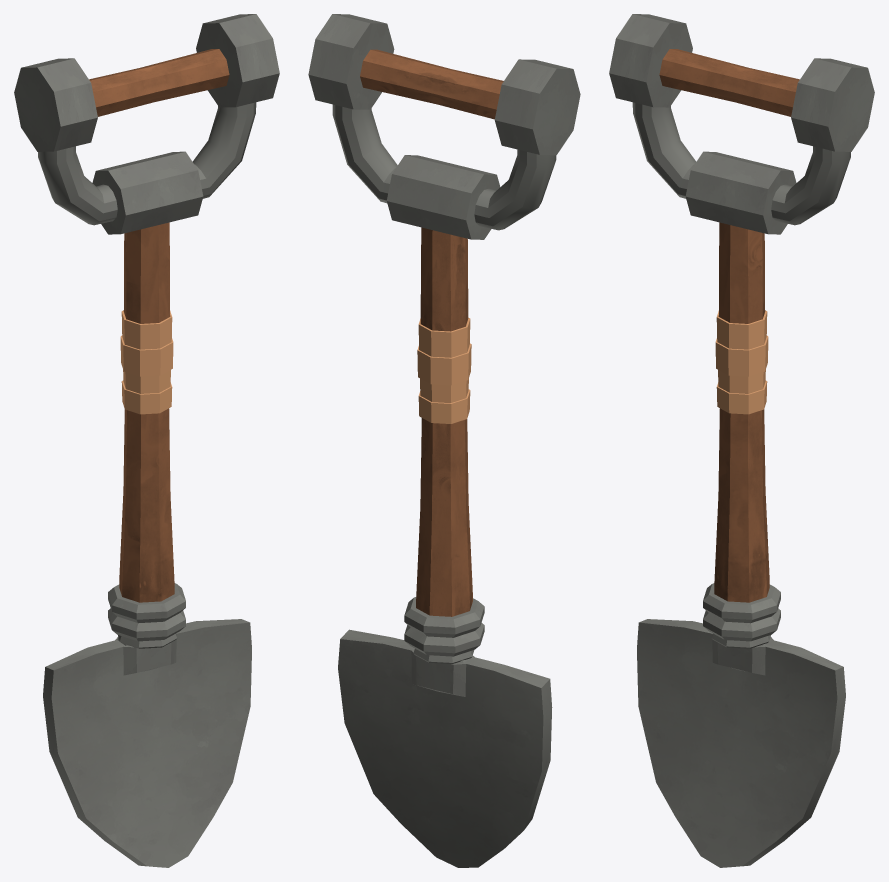
The model's file is Shovel_Decor.fbx.
3 renders of one model, left to right at view 1: azimuth 30°, elevation 25°; view 2: azimuth 150°, elevation 25°; view 3: azimuth 330°, elevation 25°, orthographic. The views are drawn at different scales.
Parts seen in each view (by area): view 1: Cylinder.013; view 2: Cylinder.013; view 3: Cylinder.013.
Part boxes in pixels (box(x1,y1,x2,y2)): Cylinder.013: box(14, 14, 279, 867); Cylinder.013: box(308, 14, 580, 867); Cylinder.013: box(609, 14, 874, 867).
Bounding box in the file's own units: 74.56 × 266 × 27.46.
Materials: 2 (1 with a texture image).
